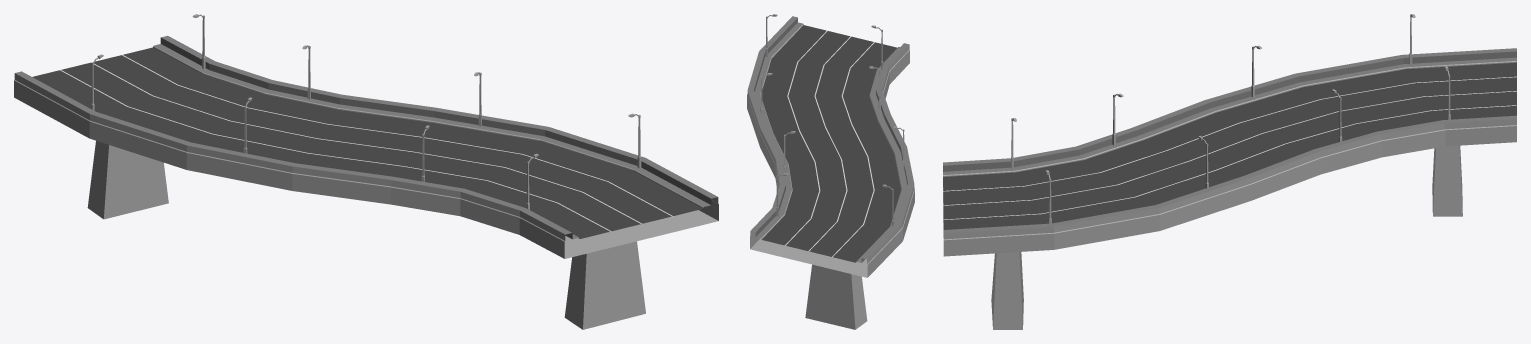
The model's file is HighwayScurveOp.glb.
3 renders of one model, left to right at view 1: azimuth 30°, elevation 25°; view 2: azimuth 150°, elevation 25°; view 3: azimuth 270°, elevation 25°, orthographic. The views are drawn at different scales.
Parts seen in each view (by area): view 1: Highway_S-Curve_mesh; view 2: Highway_S-Curve_mesh; view 3: Highway_S-Curve_mesh.
Boxes of the visible parts, left/top/right/bottom form: Highway_S-Curve_mesh: left=14, top=14, right=718, bottom=329; Highway_S-Curve_mesh: left=747, top=14, right=914, bottom=329; Highway_S-Curve_mesh: left=943, top=14, right=1516, bottom=329.
Size of the model in its own units: 65.05 by 27 by 84.97.
Materials: 2 (1 with a texture image).
